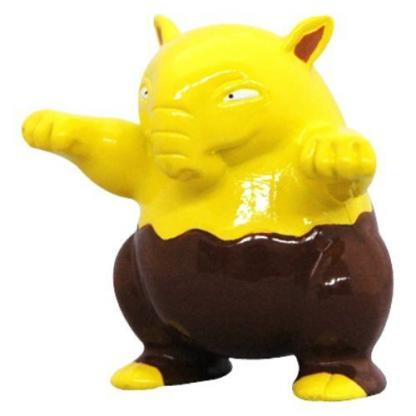Drowzee: (18, 1, 410, 411)
